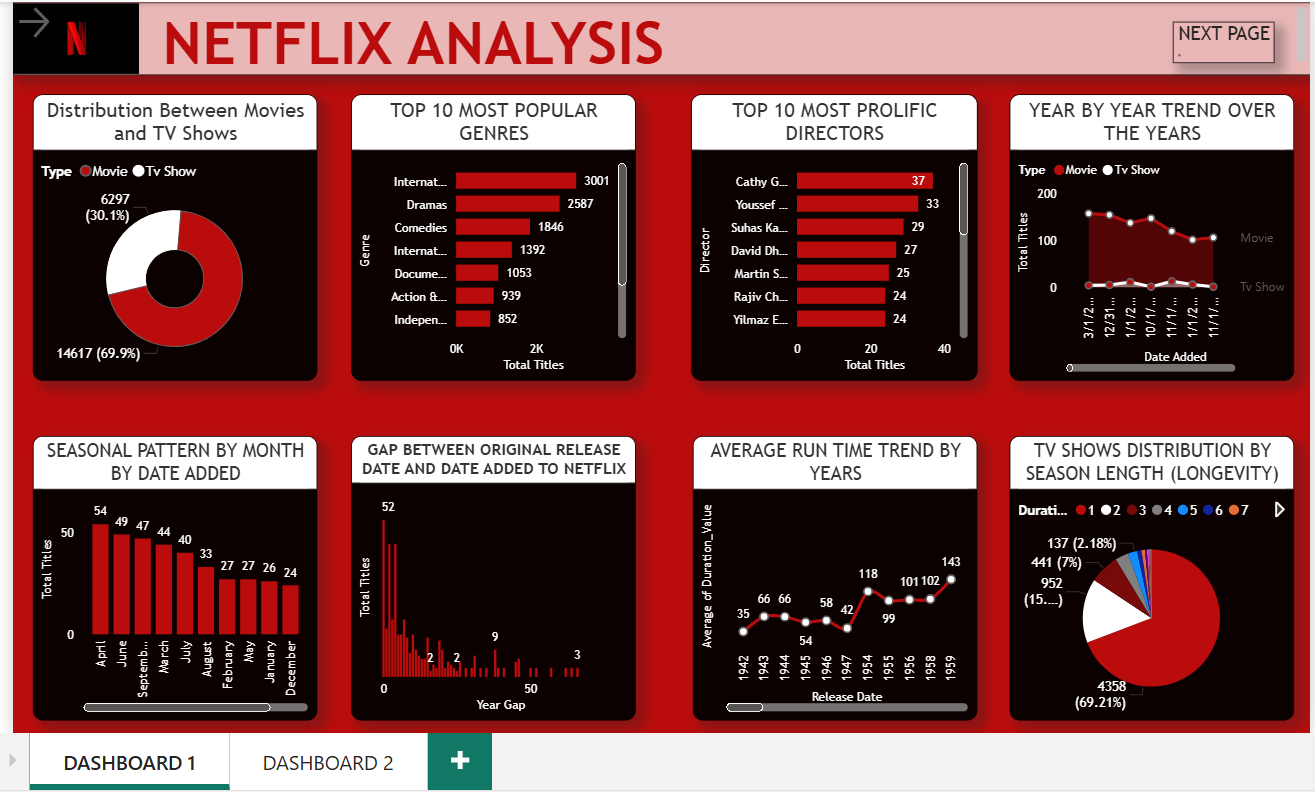

Layout of this report page (visuals, bound fields, positions):
{"tool":"powerbi","page":{"name":"DASHBOARD 1","canvas":[1280,720],"ordinal":0},"visuals":[{"type":"donutChart","title":"Distribution Between Movies and TV Shows","fields":{"Y":["netflix_titles (2).Total Titles"],"Category":["netflix_titles (2).Type"]},"box":[19.3,91.2,280.6,282.4],"z":0},{"type":"clusteredBarChart","title":"TOP 10 MOST POPULAR GENRES","fields":{"Category":["netflix_titles (2).Genre"],"Y":["netflix_titles (2).Total Titles"]},"box":[333.2,91.2,280.6,282.4],"z":1000},{"type":"lineChart","title":"YEAR BY YEAR TREND OVER THE YEARS","fields":{"Category":["netflix_titles (2).Date Added"],"Y":["netflix_titles (2).Total Titles"],"Series":["netflix_titles (2).Type"]},"box":[982.2,91.2,280.6,282.4],"z":2000},{"type":"clusteredBarChart","title":"TOP 10 MOST PROLIFIC DIRECTORS","fields":{"Y":["netflix_titles (2).Total Titles"],"Category":["netflix_titles (2).Director"]},"box":[668.2,91.2,282.4,282.4],"z":3000},{"type":"clusteredColumnChart","title":"SEASONAL PATTERN BY MONTH BY DATE ADDED","fields":{"Category":["netflix_titles (2).Date Added By Month"],"Y":["netflix_titles (2).Total Titles"]},"box":[19.3,427.9,280.6,280.6],"z":4000},{"type":"textbox","box":[0,0,1280.3,71.9],"z":5000},{"type":"image","box":[0,0,124.5,71.9],"z":6000},{"type":"clusteredColumnChart","title":"GAP BETWEEN ORIGINAL RELEASE DATE AND DATE ADDED TO NETFLIX","fields":{"Y":["netflix_titles (2).Total Titles"],"Category":["netflix_titles (2).Year Gap"]},"box":[333.2,427.9,280.6,280.6],"z":7000},{"type":"lineChart","title":"AVERAGE RUN TIME TREND BY YEARS","fields":{"Category":["netflix_titles (2).Release Date"],"Y":["Avg(netflix_titles (2).Duration_Value)"]},"box":[670,427.9,280.6,280.6],"z":8000},{"type":"pieChart","title":"TV SHOWS DISTRIBUTION BY SEASON LENGTH (LONGEVITY)","fields":{"Y":["netflix_titles (2).Total Titles"],"Category":["netflix_titles (2).Duration_Value"]},"box":[982.2,427.9,280.6,280.6],"z":9000},{"type":"actionButton","box":[0,0,100,40],"z":10000},{"type":"actionButton","title":"NEXT PAGE","box":[1143.5,19.3,100,40.3],"z":11000}]}

Visuals, with their boxes on the page's 1280x720 design canvas (x1, y1, x2, y2). These are canvas units, not pixel positions in the 1315x792 screenshot, which may show the page scaled, cropped or inside an application window:
"Distribution Between Movies and TV Shows" donutChart: [left=19, top=91, right=300, bottom=374]
"TOP 10 MOST POPULAR GENRES" clusteredBarChart: [left=333, top=91, right=614, bottom=374]
"YEAR BY YEAR TREND OVER THE YEARS" lineChart: [left=982, top=91, right=1263, bottom=374]
"TOP 10 MOST PROLIFIC DIRECTORS" clusteredBarChart: [left=668, top=91, right=951, bottom=374]
"SEASONAL PATTERN BY MONTH BY DATE ADDED" clusteredColumnChart: [left=19, top=428, right=300, bottom=708]
textbox: [left=0, top=0, right=1280, bottom=72]
image: [left=0, top=0, right=124, bottom=72]
"GAP BETWEEN ORIGINAL RELEASE DATE AND DATE ADDED TO NETFLIX" clusteredColumnChart: [left=333, top=428, right=614, bottom=708]
"AVERAGE RUN TIME TREND BY YEARS" lineChart: [left=670, top=428, right=951, bottom=708]
"TV SHOWS DISTRIBUTION BY SEASON LENGTH (LONGEVITY)" pieChart: [left=982, top=428, right=1263, bottom=708]
actionButton: [left=0, top=0, right=100, bottom=40]
"NEXT PAGE" actionButton: [left=1144, top=19, right=1244, bottom=60]
